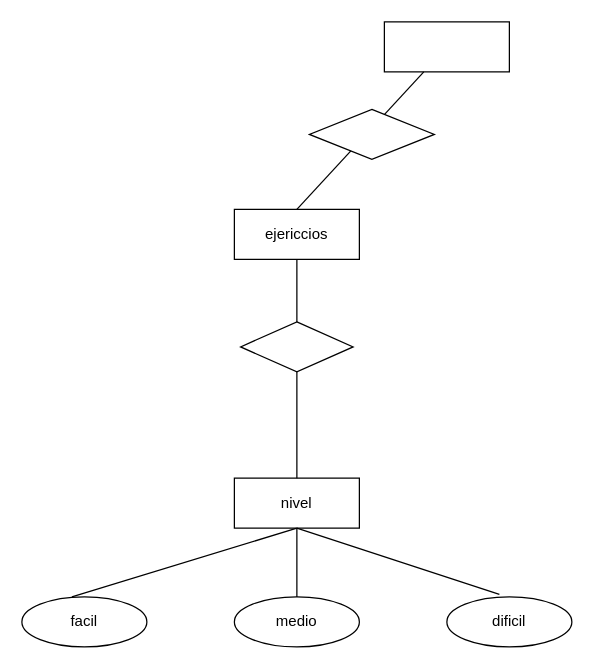
Image size: 594x669. Some labels were removed from this diagram. The shapes that lost their labels are listed below. From the top down, each one's centre as x and y in pixels, then its label:
At pixel 446 46: "Webtrainer".
At pixel 371 133: "contiene".
At pixel 296 346: "tienen".
